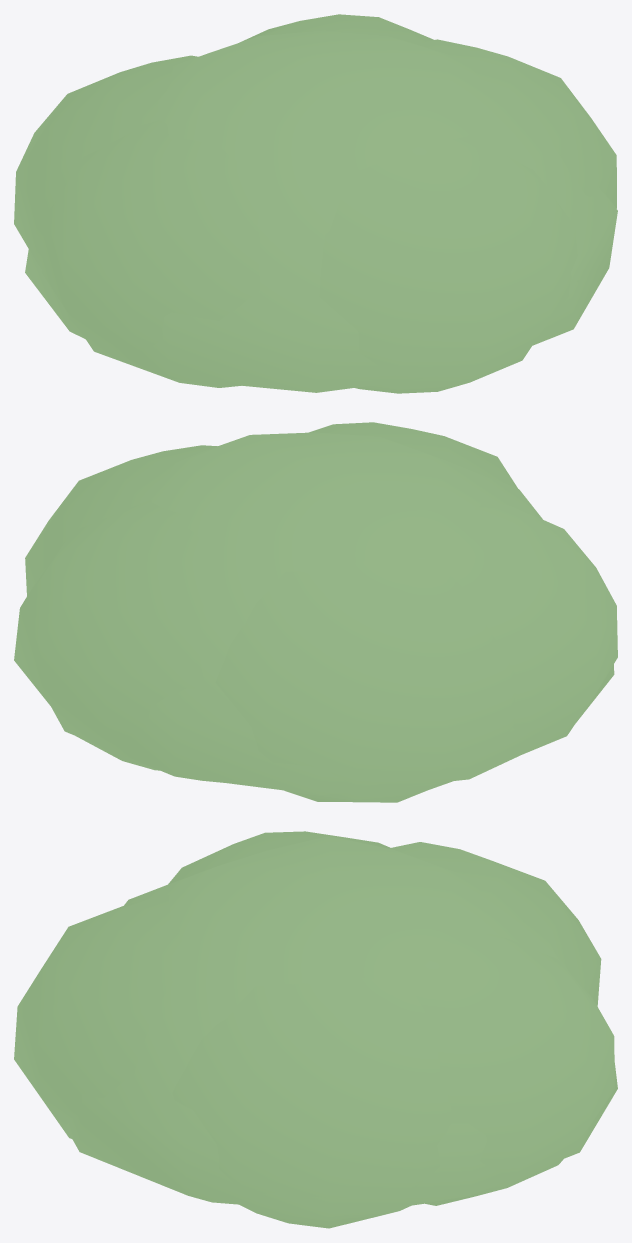
Rendered from Blender_GardenShrub_Dome.glb.
3 views of the same model, one above another, from view 1: azimuth 30°, elevation 25°; view 2: azimuth 150°, elevation 25°; view 3: azimuth 270°, elevation 25° (orthographic).
Visible parts, largest first — view 1: Blender_GardenShrub_Dome; view 2: Blender_GardenShrub_Dome; view 3: Blender_GardenShrub_Dome.
Part boxes in pixels (x1,y1,x2,y2): Blender_GardenShrub_Dome: (14, 14, 617, 393); Blender_GardenShrub_Dome: (14, 422, 617, 802); Blender_GardenShrub_Dome: (14, 831, 617, 1228).
Size of the model in its own units: 1.44 by 0.6862 by 1.38.
